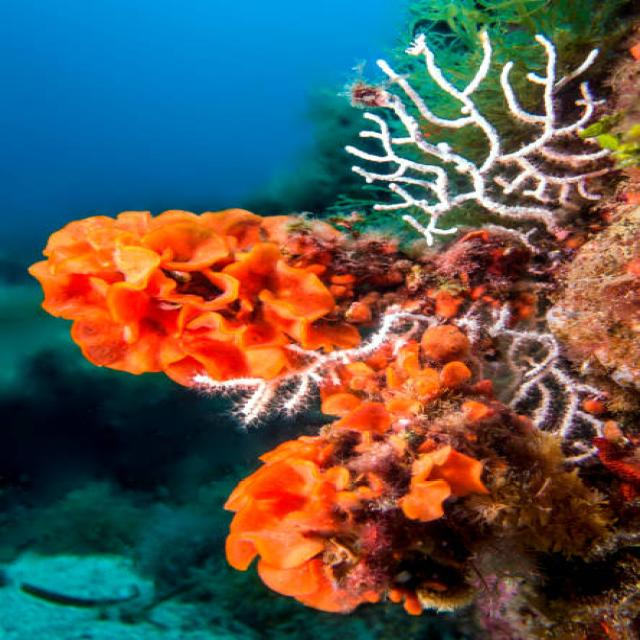Coral: (28, 207, 496, 616)
